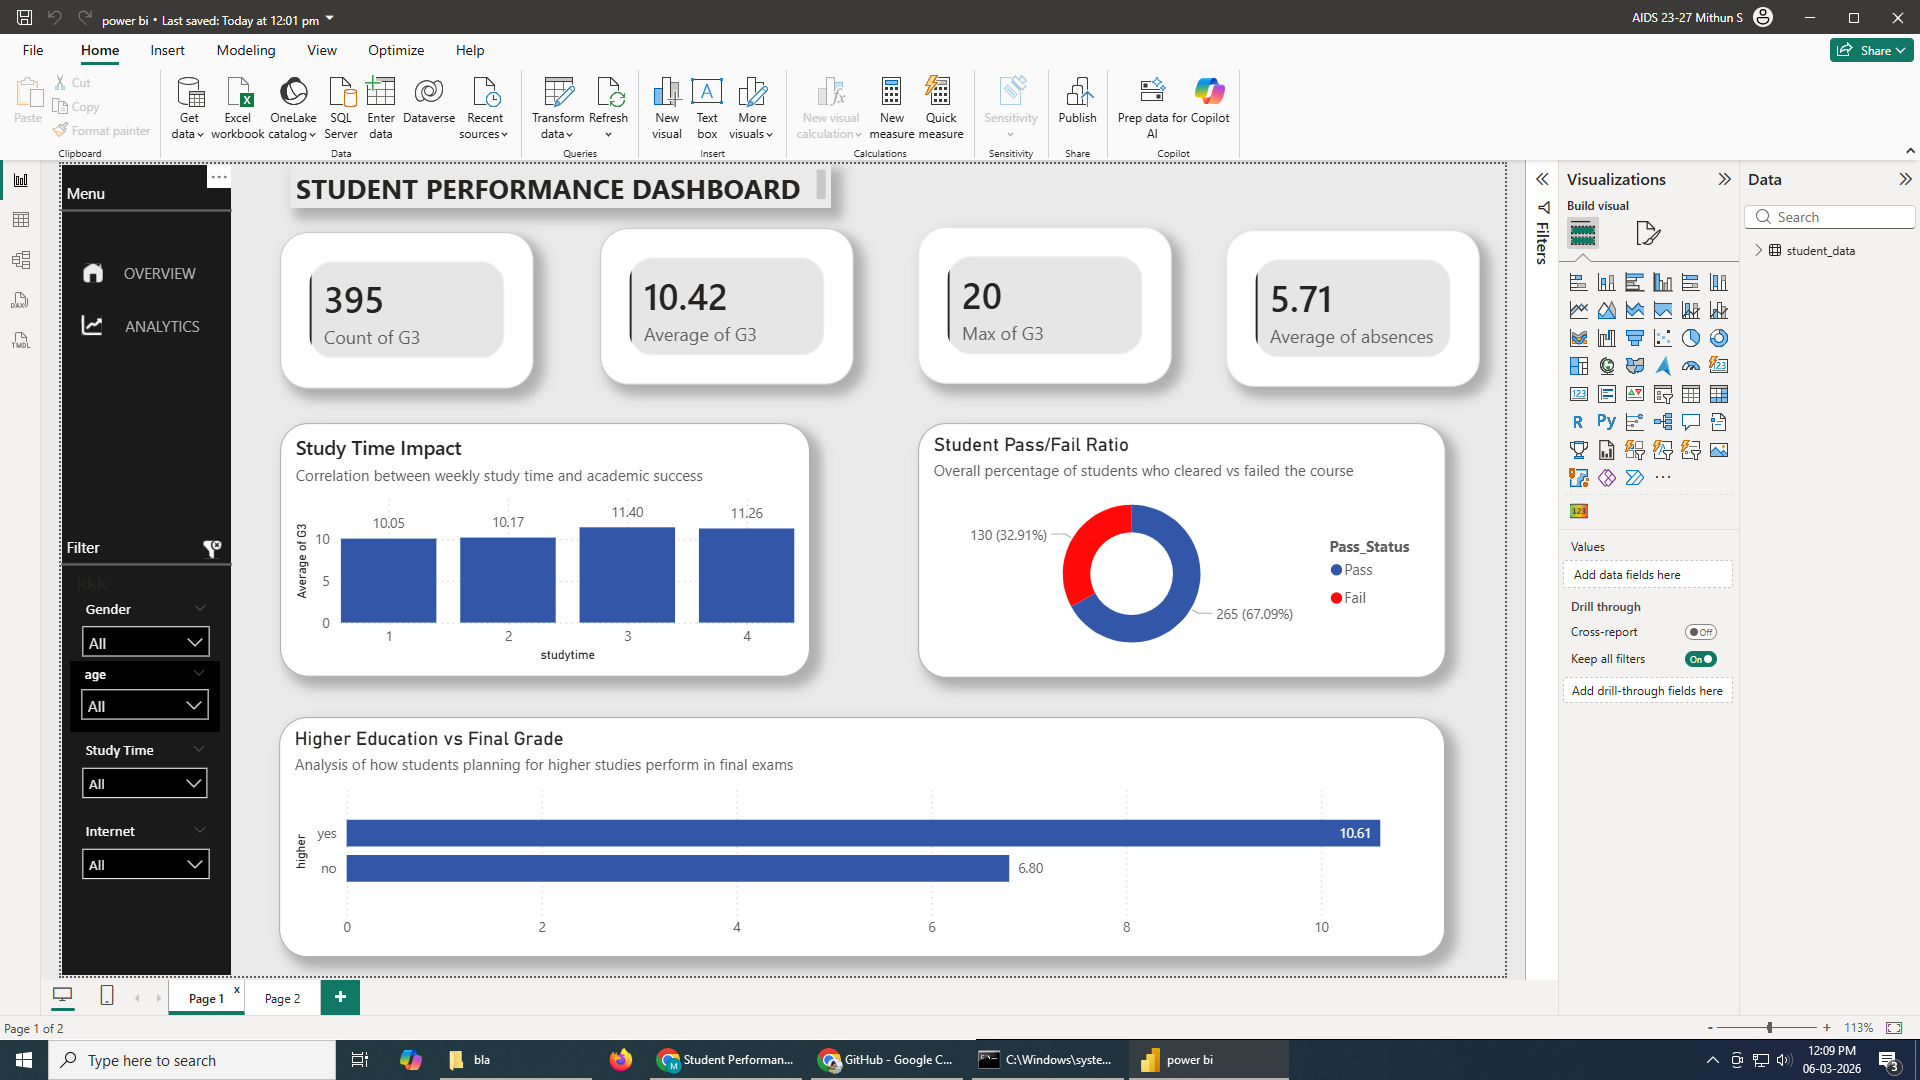

The page's visual inventory and layout, read from the dashboard file:
{"tool":"powerbi","page":{"name":"Page 1","canvas":[1280,720],"ordinal":0},"visuals":[{"type":"textbox","box":[202.8,0,480.1,39],"z":0},{"type":"cardVisual","fields":{"Data":["Avg(student_data.G3)"]},"box":[478.1,57,225,139.3],"z":1000},{"type":"shape","box":[0,0,151.5,719.7],"z":3000},{"type":"cardVisual","fields":{"Data":["CountNonNull(student_data.G3)"]},"box":[193.8,60.2,225,138.8],"z":4000},{"type":"slicer","fields":{"Values":["student_data.age"]},"box":[7.8,440.8,132.6,63.5],"z":5000},{"type":"slicer","title":"kkk","fields":{"Values":["student_data.sex"]},"box":[9.3,362.1,132.6,76.9],"z":6000},{"type":"actionButton","box":[7.7,76.9,150.4,39],"z":7000},{"type":"cardVisual","fields":{"Data":["Max(student_data.G3)"]},"box":[759.9,55.9,225,139.3],"z":8000},{"type":"cardVisual","fields":{"Data":["Avg(student_data.absences)"]},"box":[1033,58.5,225.2,139.2],"z":9000},{"type":"actionButton","box":[92.5,321.9,62.4,40.1],"z":10000},{"type":"shape","box":[0,342,151.5,25.6],"z":11000},{"type":"shape","box":[0,0,151.5,82.4],"z":12000},{"type":"textbox","box":[0,326.4,57.9,29],"z":13000},{"type":"textbox","box":[0,12.3,151.5,39],"z":14000},{"type":"clusteredColumnChart","title":"Study Time Impact","fields":{"Category":["student_data.studytime"],"Y":["Avg(student_data.G3)"]},"box":[193.8,229.5,470.1,225],"z":15000},{"type":"actionButton","box":[14.5,125.9,143.7,34.5],"z":16000},{"type":"donutChart","title":"Student Pass/Fail Ratio","fields":{"Category":["student_data.Pass_Status"],"Y":["CountNonNull(student_data.G3)"]},"box":[759.8,229.5,467.9,226.1],"z":17000},{"type":"clusteredBarChart","title":"Higher Education vs Final Grade","fields":{"Category":["student_data.higher"],"Y":["Avg(student_data.G3)"]},"box":[193.7,490.3,1033.9,213.5],"z":18000},{"type":"slicer","fields":{"Values":["student_data.internet"]},"box":[8.9,578.2,132.6,63.5],"z":19000},{"type":"slicer","fields":{"Values":["student_data.studytime"]},"box":[8.9,506.1,131.5,70.2],"z":19500}]}

Visuals, with their boxes on the page's 1280x720 design canvas (x1, y1, x2, y2). These are canvas units, not pixel positions in the 1920x1080 screenshot, which may show the page scaled, cropped or inside an application window:
textbox: detection(203, 0, 683, 39)
cardVisual - Avg(student_data.G3): detection(478, 57, 703, 196)
shape: detection(0, 0, 152, 720)
cardVisual - CountNonNull(student_data.G3): detection(194, 60, 419, 199)
slicer - student_data.age: detection(8, 441, 140, 504)
"kkk" slicer: detection(9, 362, 142, 439)
actionButton: detection(8, 77, 158, 116)
cardVisual - Max(student_data.G3): detection(760, 56, 985, 195)
cardVisual - Avg(student_data.absences): detection(1033, 58, 1258, 198)
actionButton: detection(92, 322, 155, 362)
shape: detection(0, 342, 152, 368)
shape: detection(0, 0, 152, 82)
textbox: detection(0, 326, 58, 355)
textbox: detection(0, 12, 152, 51)
"Study Time Impact" clusteredColumnChart: detection(194, 230, 664, 454)
actionButton: detection(14, 126, 158, 160)
"Student Pass/Fail Ratio" donutChart: detection(760, 230, 1228, 456)
"Higher Education vs Final Grade" clusteredBarChart: detection(194, 490, 1228, 704)
slicer - student_data.internet: detection(9, 578, 142, 642)
slicer - student_data.studytime: detection(9, 506, 140, 576)
